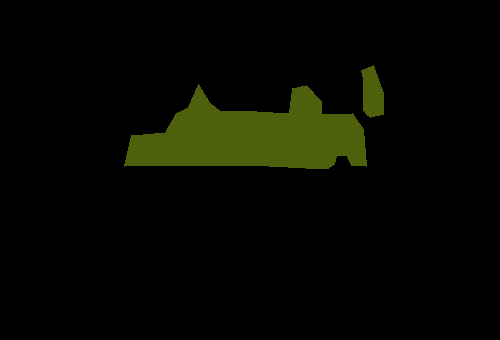Train: (124, 65, 383, 169)
